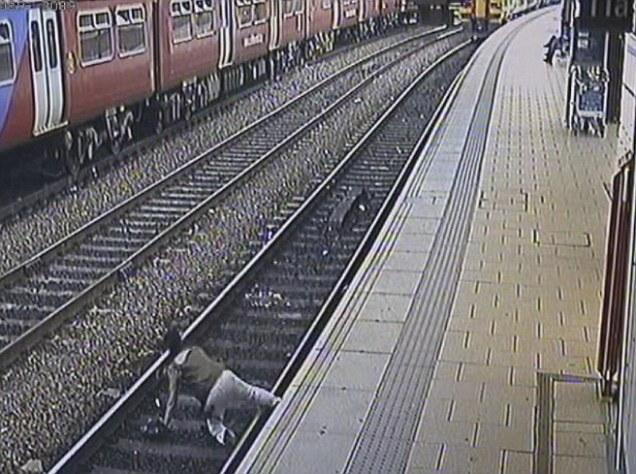person: (143, 310, 290, 464), (537, 16, 584, 64)
